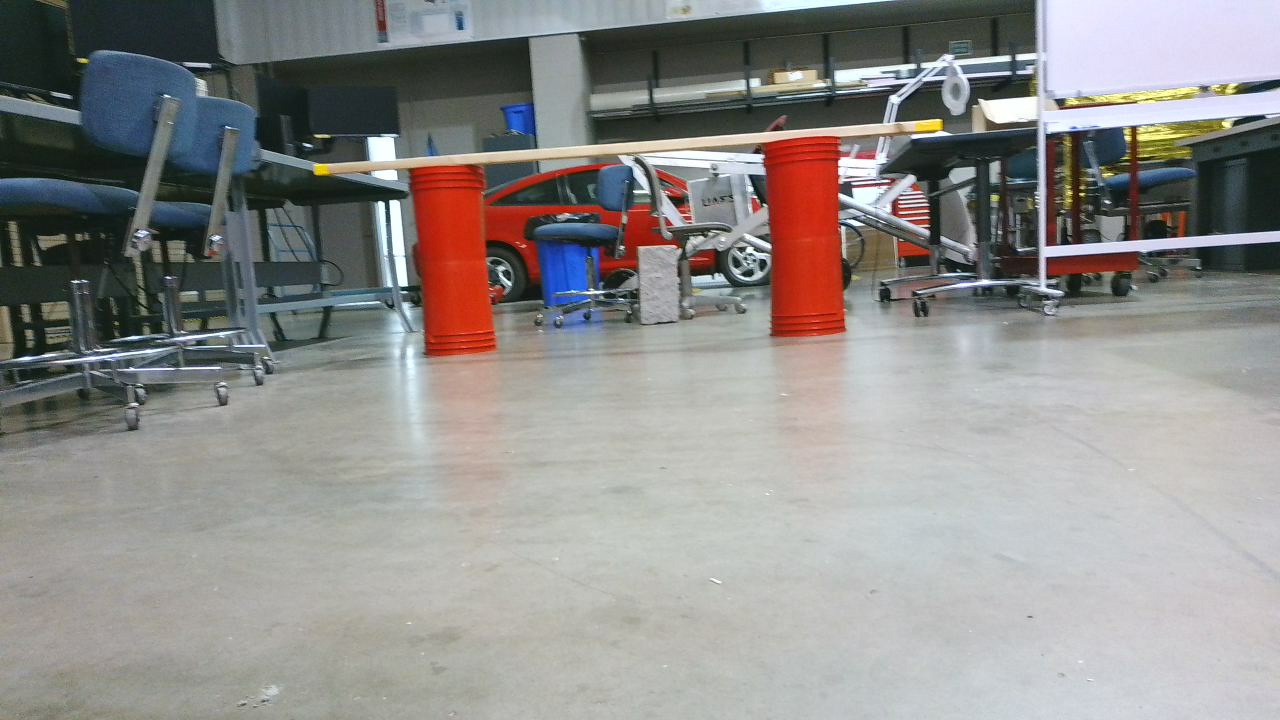red_bucket_arch: (417, 138, 857, 364)
